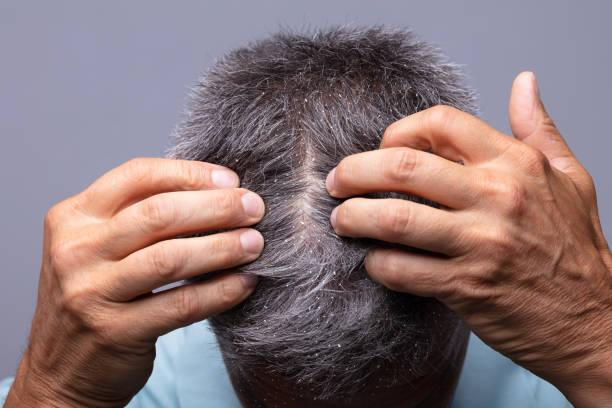dandruff: (291, 288, 373, 348), (259, 168, 294, 208), (301, 262, 348, 279), (251, 310, 278, 335), (222, 149, 253, 167), (298, 91, 314, 119), (381, 90, 395, 119), (294, 371, 314, 389)
